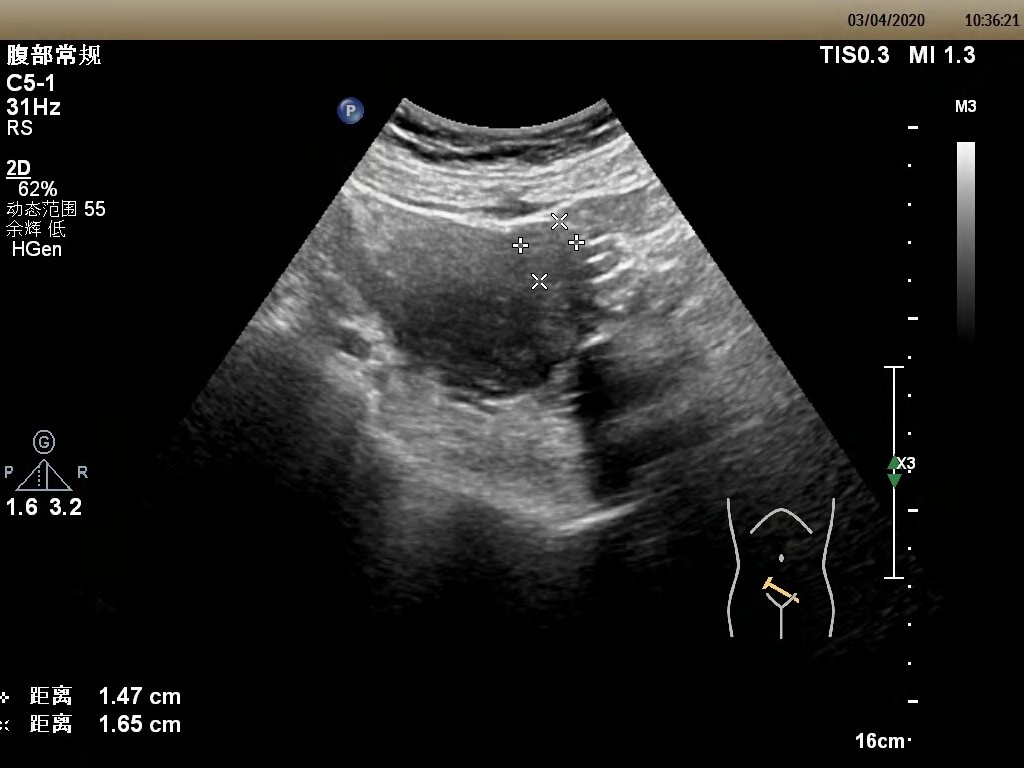肌瘤: (522, 222, 566, 283)
